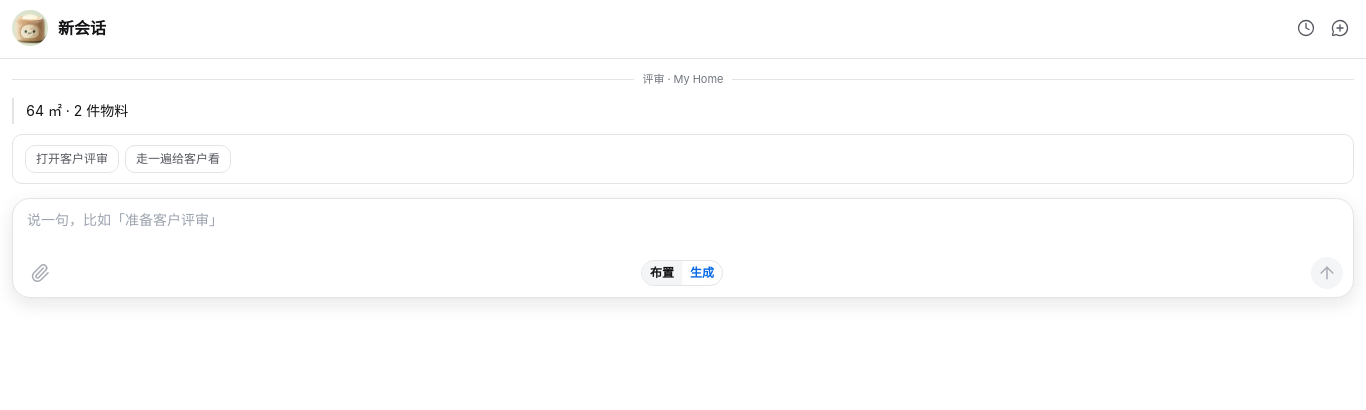
Test case: T-04 delivery narrative in the Agent panel › does not edit the layout from chat while review is open
This screenshot has width=1366, height=410.
Type "再加两把椅子" into the text box named "告诉 Agent 要改的" at (685, 230), box [27,209,1343,251]
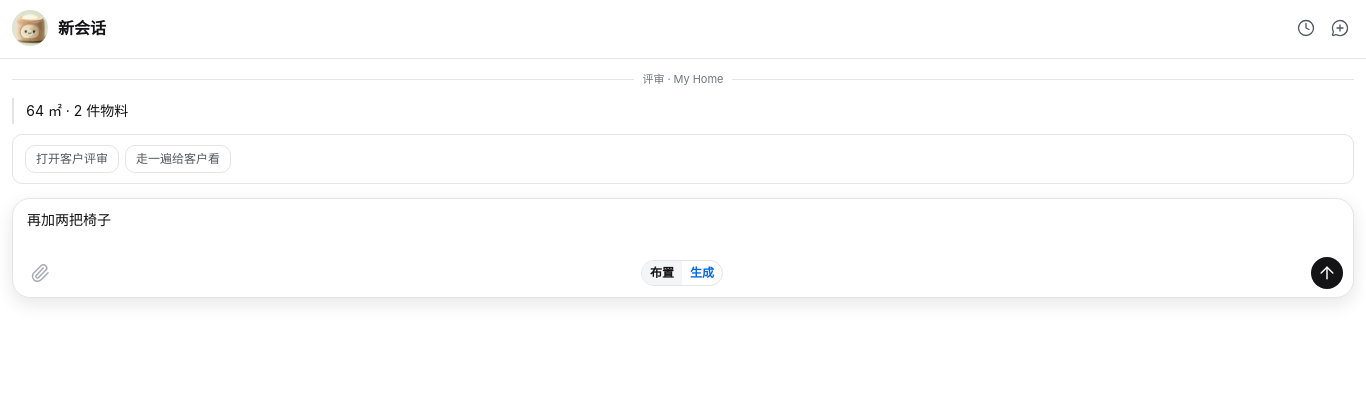
Click the button named "发送" at (1327, 273), box [1311,257,1343,289]
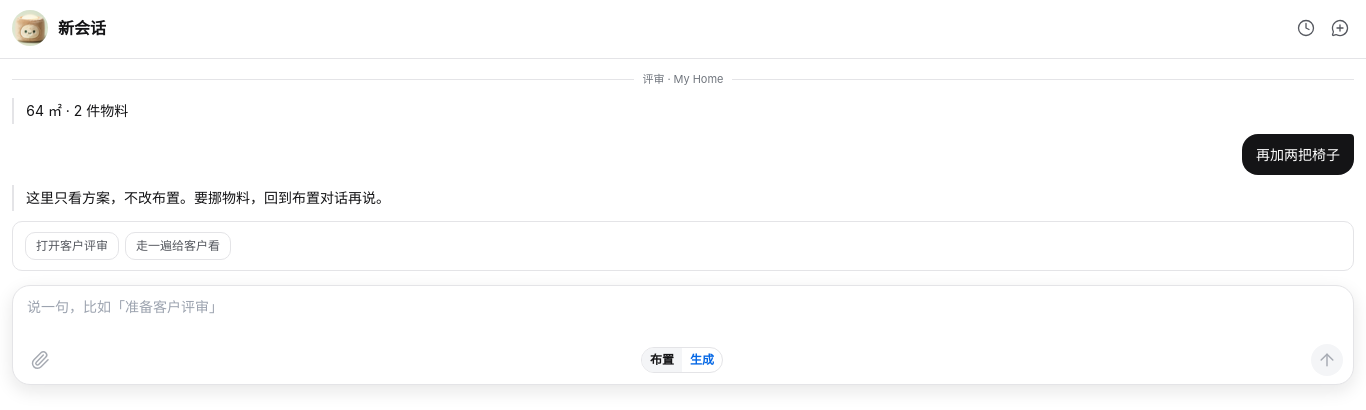
Check: the text "这里只看方案，不改布置。要挪物料，回到布置对话再说。" is shown, box [12,185,390,211]
